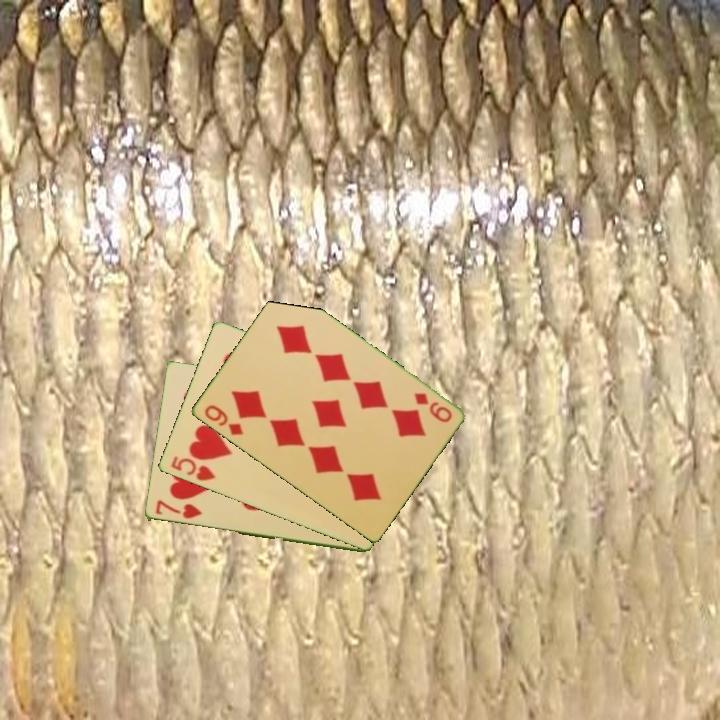5h: (167, 453, 218, 484)
7h: (152, 497, 204, 522)
9d: (200, 401, 246, 439), (410, 389, 455, 426)
